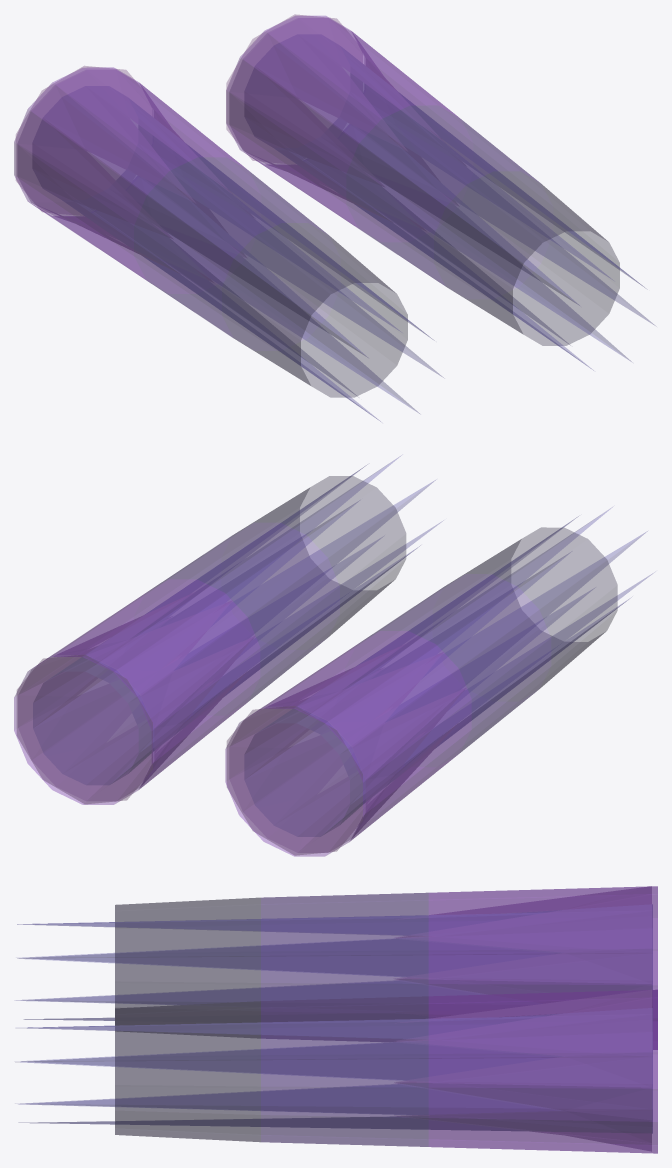
The model's file is Bunner_Su47NG.obj.
The picture shows the model from 3 angles, top to bottom: view 1: azimuth 30°, elevation 25°; view 2: azimuth 150°, elevation 25°; view 3: azimuth 270°, elevation 25°; orthographic projection.
Visible parts, largest first — view 1: ShapeIndexedFaceSet.144_ShapeIndexedFaceSet.145, ShapeIndexedFaceSet.139_ShapeIndexedFaceSet.140, ShapeIndexedFaceSet.140_ShapeIndexedFaceSet.141, ShapeIndexedFaceSet.145_ShapeIndexedFaceSet.146, ShapeIndexedFaceSet.147_ShapeIndexedFaceSet, ShapeIndexedFaceSet.142_ShapeIndexedFaceSet.143, ShapeIndexedFaceSet.143_ShapeIndexedFaceSet.144, ShapeIndexedFaceSet.138_ShapeIndexedFaceSet.139, ShapeIndexedFaceSet.141_ShapeIndexedFaceSet.142, ShapeIndexedFaceSet.146_ShapeIndexedFaceSet.147, ShapeIndexedFaceSet.137_ShapeIndexedFaceSet.138, ShapeIndexedFaceSet.136_ShapeIndexedFaceSet.137; view 2: ShapeIndexedFaceSet.139_ShapeIndexedFaceSet.140, ShapeIndexedFaceSet.144_ShapeIndexedFaceSet.145, ShapeIndexedFaceSet.140_ShapeIndexedFaceSet.141, ShapeIndexedFaceSet.145_ShapeIndexedFaceSet.146, ShapeIndexedFaceSet.141_ShapeIndexedFaceSet.142, ShapeIndexedFaceSet.146_ShapeIndexedFaceSet.147, ShapeIndexedFaceSet.137_ShapeIndexedFaceSet.138, ShapeIndexedFaceSet.136_ShapeIndexedFaceSet.137, ShapeIndexedFaceSet.138_ShapeIndexedFaceSet.139, ShapeIndexedFaceSet.143_ShapeIndexedFaceSet.144, ShapeIndexedFaceSet.142_ShapeIndexedFaceSet.143, ShapeIndexedFaceSet.147_ShapeIndexedFaceSet; view 3: ShapeIndexedFaceSet.144_ShapeIndexedFaceSet.145, ShapeIndexedFaceSet.139_ShapeIndexedFaceSet.140, ShapeIndexedFaceSet.145_ShapeIndexedFaceSet.146, ShapeIndexedFaceSet.146_ShapeIndexedFaceSet.147, ShapeIndexedFaceSet.143_ShapeIndexedFaceSet.144, ShapeIndexedFaceSet.140_ShapeIndexedFaceSet.141, ShapeIndexedFaceSet.147_ShapeIndexedFaceSet, ShapeIndexedFaceSet.141_ShapeIndexedFaceSet.142, ShapeIndexedFaceSet.138_ShapeIndexedFaceSet.139, ShapeIndexedFaceSet.142_ShapeIndexedFaceSet.143.
Boxes of the visible parts, left/top/right/bottom form: ShapeIndexedFaceSet.144_ShapeIndexedFaceSet.145: left=274, top=46, right=655, bottom=370; ShapeIndexedFaceSet.139_ShapeIndexedFaceSet.140: left=62, top=98, right=443, bottom=421; ShapeIndexedFaceSet.140_ShapeIndexedFaceSet.141: left=14, top=67, right=260, bottom=293; ShapeIndexedFaceSet.145_ShapeIndexedFaceSet.146: left=226, top=16, right=472, bottom=241; ShapeIndexedFaceSet.147_ShapeIndexedFaceSet: left=434, top=171, right=619, bottom=345; ShapeIndexedFaceSet.142_ShapeIndexedFaceSet.143: left=222, top=223, right=407, bottom=397; ShapeIndexedFaceSet.143_ShapeIndexedFaceSet.144: left=229, top=18, right=443, bottom=220; ShapeIndexedFaceSet.138_ShapeIndexedFaceSet.139: left=17, top=70, right=231, bottom=272; ShapeIndexedFaceSet.141_ShapeIndexedFaceSet.142: left=134, top=157, right=340, bottom=350; ShapeIndexedFaceSet.146_ShapeIndexedFaceSet.147: left=346, top=105, right=552, bottom=298; ShapeIndexedFaceSet.137_ShapeIndexedFaceSet.138: left=226, top=14, right=343, bottom=160; ShapeIndexedFaceSet.136_ShapeIndexedFaceSet.137: left=16, top=66, right=135, bottom=212; ShapeIndexedFaceSet.139_ShapeIndexedFaceSet.140: left=244, top=507, right=654, bottom=836; ShapeIndexedFaceSet.144_ShapeIndexedFaceSet.145: left=33, top=455, right=443, bottom=784; ShapeIndexedFaceSet.140_ShapeIndexedFaceSet.141: left=225, top=631, right=471, bottom=856; ShapeIndexedFaceSet.145_ShapeIndexedFaceSet.146: left=14, top=579, right=259, bottom=804; ShapeIndexedFaceSet.141_ShapeIndexedFaceSet.142: left=345, top=574, right=550, bottom=766; ShapeIndexedFaceSet.146_ShapeIndexedFaceSet.147: left=134, top=522, right=339, bottom=715; ShapeIndexedFaceSet.137_ShapeIndexedFaceSet.138: left=17, top=655, right=152, bottom=803; ShapeIndexedFaceSet.136_ShapeIndexedFaceSet.137: left=227, top=706, right=362, bottom=855; ShapeIndexedFaceSet.138_ShapeIndexedFaceSet.139: left=229, top=644, right=465, bottom=852; ShapeIndexedFaceSet.143_ShapeIndexedFaceSet.144: left=18, top=593, right=254, bottom=801; ShapeIndexedFaceSet.142_ShapeIndexedFaceSet.143: left=433, top=527, right=617, bottom=701; ShapeIndexedFaceSet.147_ShapeIndexedFaceSet: left=221, top=476, right=405, bottom=649; ShapeIndexedFaceSet.144_ShapeIndexedFaceSet.145: left=18, top=1008, right=652, bottom=1133; ShapeIndexedFaceSet.139_ShapeIndexedFaceSet.140: left=15, top=904, right=652, bottom=1020; ShapeIndexedFaceSet.145_ShapeIndexedFaceSet.146: left=428, top=989, right=657, bottom=1153; ShapeIndexedFaceSet.146_ShapeIndexedFaceSet.147: left=261, top=996, right=428, bottom=1146; ShapeIndexedFaceSet.143_ShapeIndexedFaceSet.144: left=395, top=989, right=651, bottom=1151; ShapeIndexedFaceSet.140_ShapeIndexedFaceSet.141: left=428, top=886, right=657, bottom=1049; ShapeIndexedFaceSet.147_ShapeIndexedFaceSet: left=115, top=1001, right=260, bottom=1142; ShapeIndexedFaceSet.141_ShapeIndexedFaceSet.142: left=261, top=892, right=428, bottom=1041; ShapeIndexedFaceSet.138_ShapeIndexedFaceSet.139: left=395, top=886, right=651, bottom=994; ShapeIndexedFaceSet.142_ShapeIndexedFaceSet.143: left=115, top=897, right=260, bottom=1038.
Bounding box in the file's own units: 23.13 × 9.51 × 36.79.
